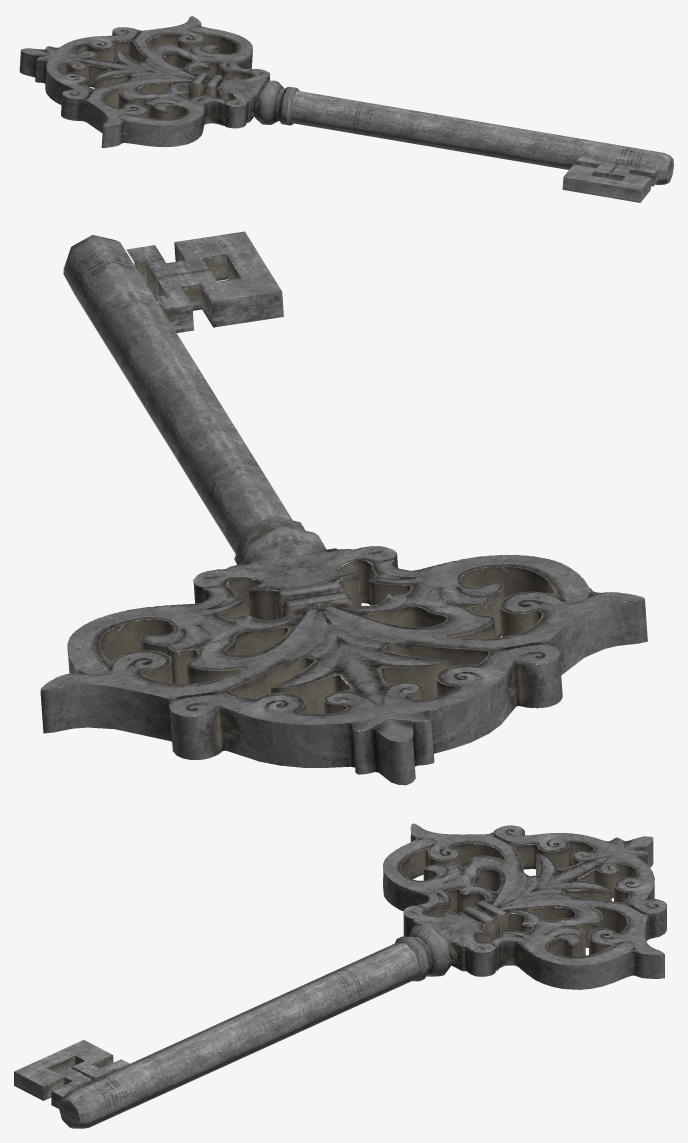
The model's file is llave.glb.
3 views of the same model, one above another, from view 1: azimuth 30°, elevation 25°; view 2: azimuth 150°, elevation 25°; view 3: azimuth 270°, elevation 25° (orthographic). The views are drawn at different scales.
Parts seen in each view (by area): view 1: defaultMaterial; view 2: defaultMaterial; view 3: defaultMaterial.
Boxes of the visible parts, x1,y1,x2,y2 form: defaultMaterial: (19,16,673,202); defaultMaterial: (40,231,647,785); defaultMaterial: (14,823,667,1128).
Size of the model in its own units: 0.1483 by 0.0183 by 0.1642.
Materials: 1 (1 with a texture image).
